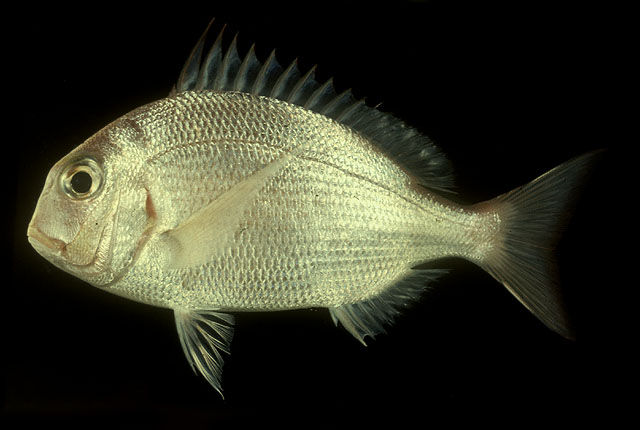fish: (28, 22, 594, 400)
